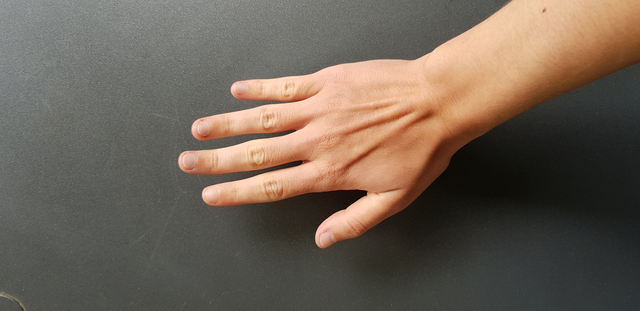Paper: (161, 52, 475, 250)
